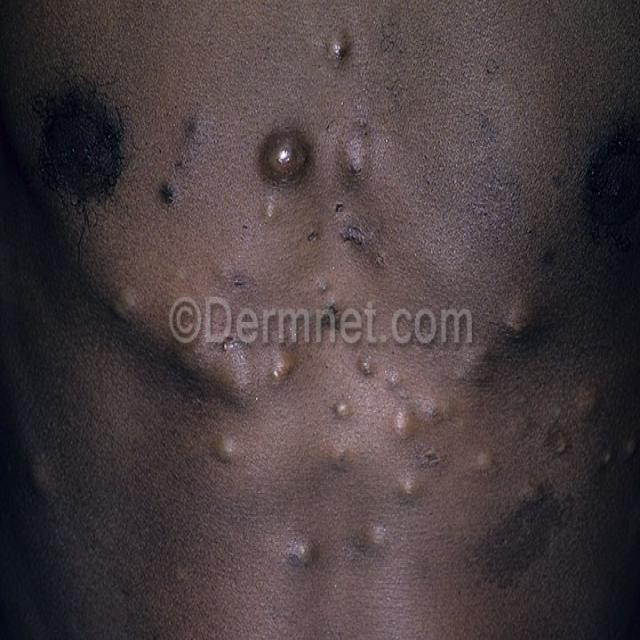Eczema: (61, 34, 635, 559)
